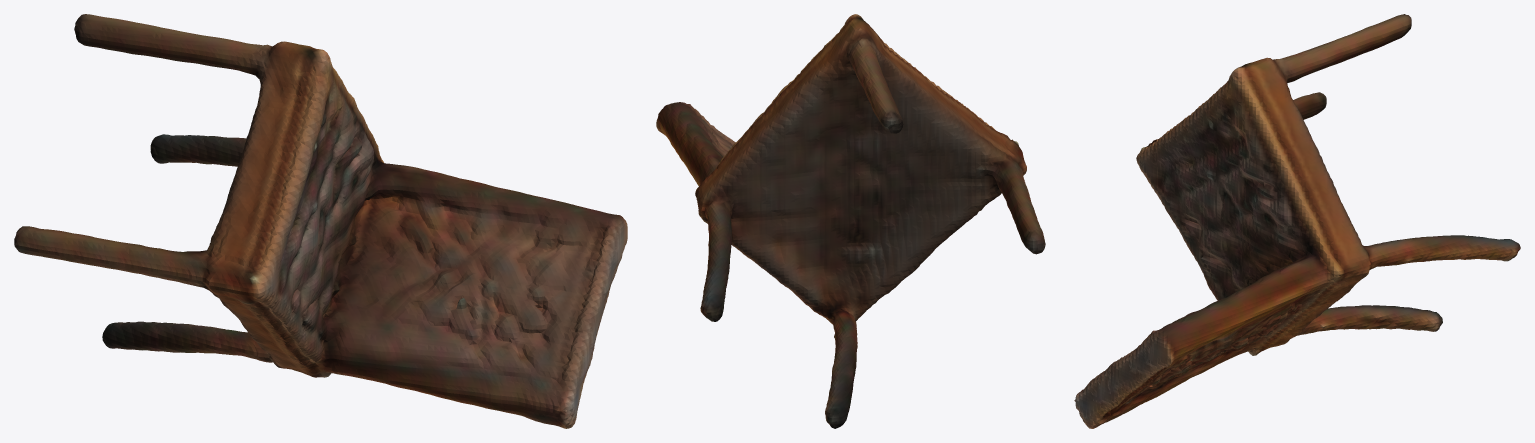
3 renders of one model, left to right at view 1: azimuth 30°, elevation 25°; view 2: azimuth 150°, elevation 25°; view 3: azimuth 270°, elevation 25°, orthographic. The views are drawn at different scales.
Bounding box in the file's own units: 0.9814 × 0.6429 × 0.8604.
